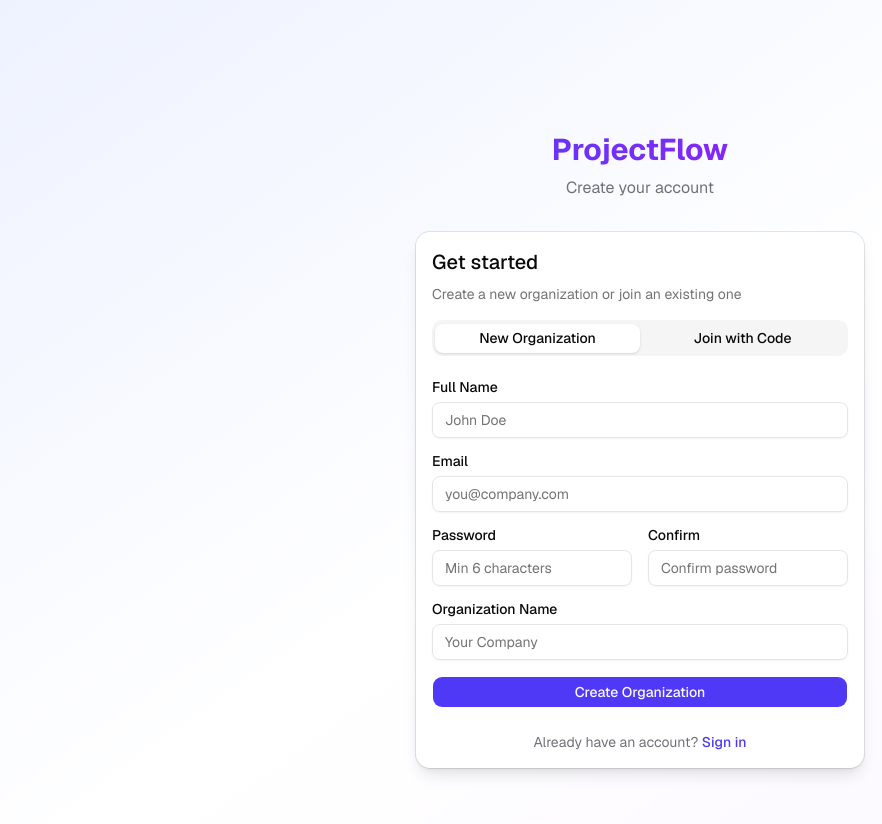
RegisterPage › shows error when passwords do not match
The width and height of the screenshot is (882, 824).
Type "pass123" into the password field labelled "Password". click: {"x": 532, "y": 568}
box: [432,550,632,586]
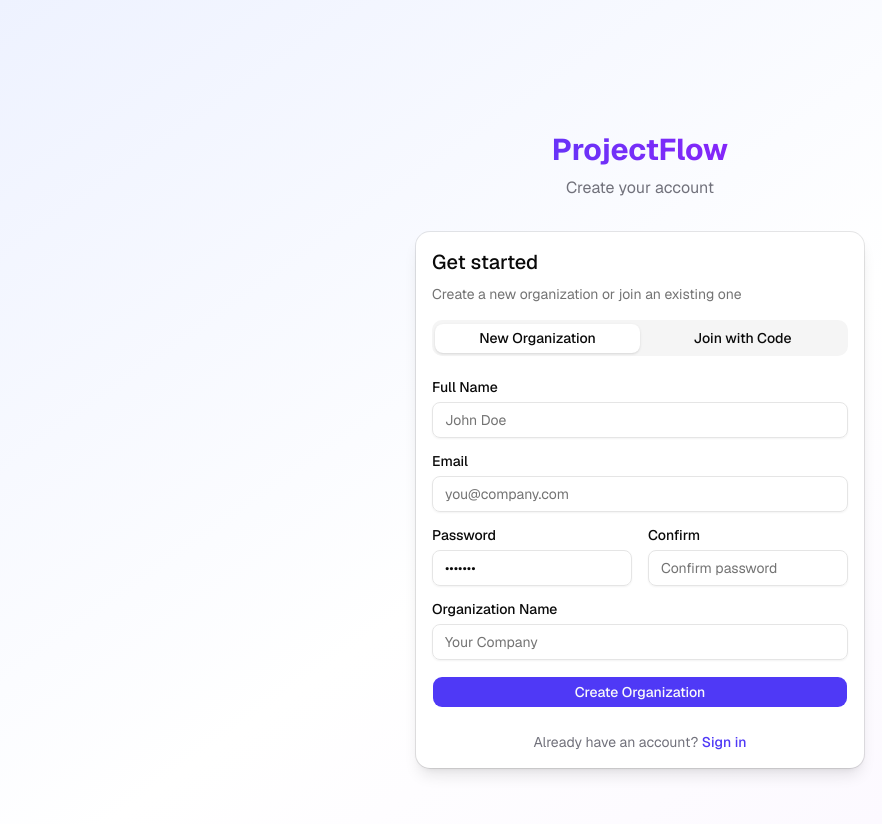
Type "different" into the password field labelled "Confirm". click: {"x": 748, "y": 568}
box: [648,550,848,586]
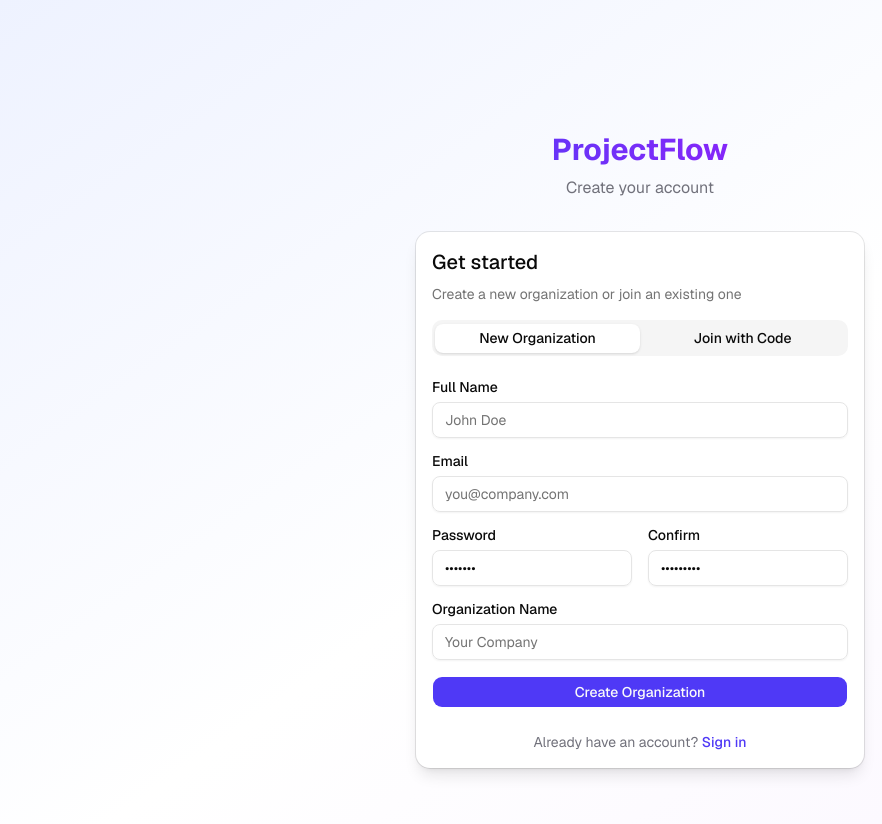
Submit the form, box [432,380,848,708]
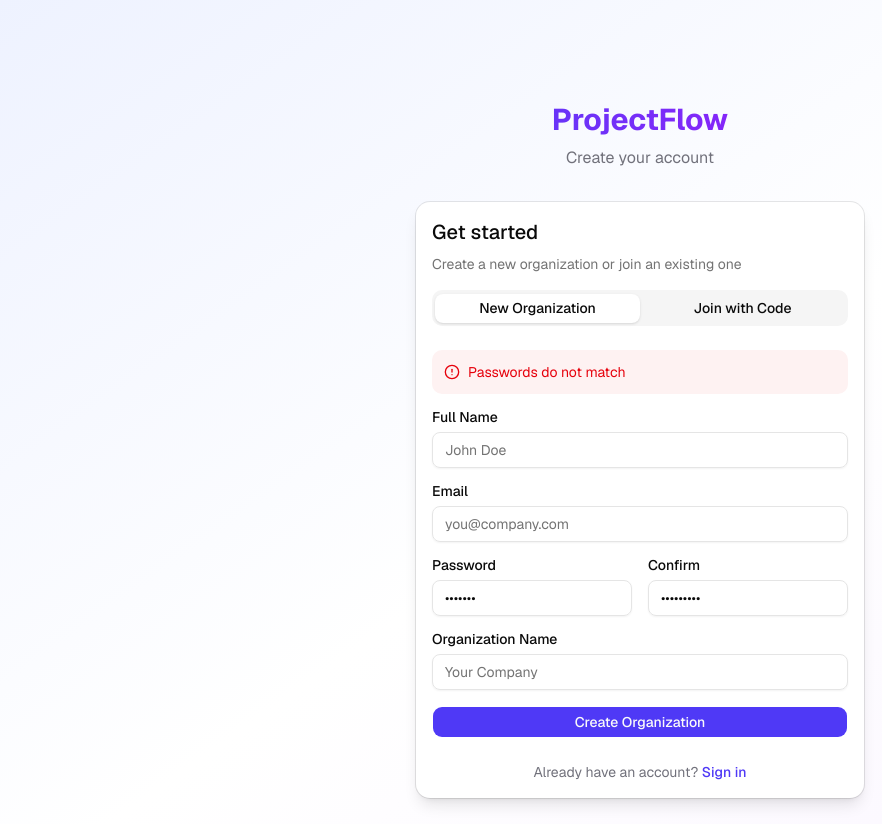
Result: the text "Passwords do not match" is shown at [432,350,848,394]
